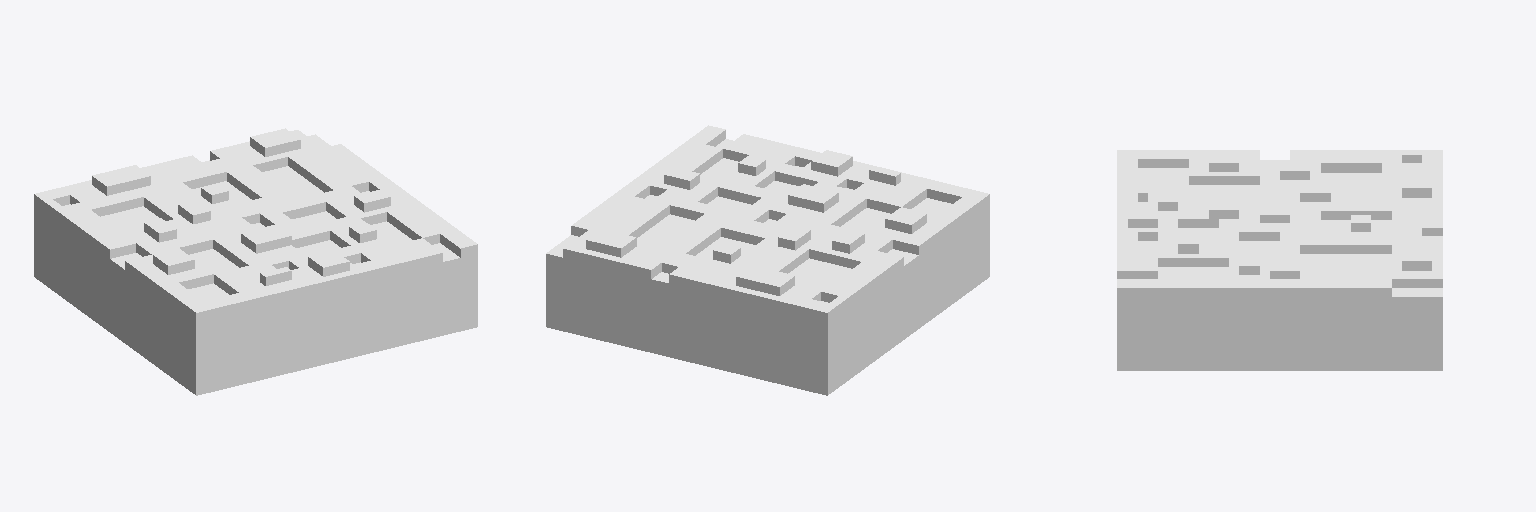
The model's file is Land.obj.
The picture shows the model from 3 angles: view 1: azimuth 30°, elevation 25°; view 2: azimuth 150°, elevation 25°; view 3: azimuth 270°, elevation 25°; orthographic projection.
Parts seen in each view (by area): view 1: object 1; view 2: object 1; view 3: object 1.
Part boxes in pixels (bbox=[...]): object 1: bbox=[34, 128, 477, 395]; object 1: bbox=[546, 125, 989, 395]; object 1: bbox=[1117, 150, 1442, 370].
Size of the model in its own units: 3.2 by 1 by 3.2.